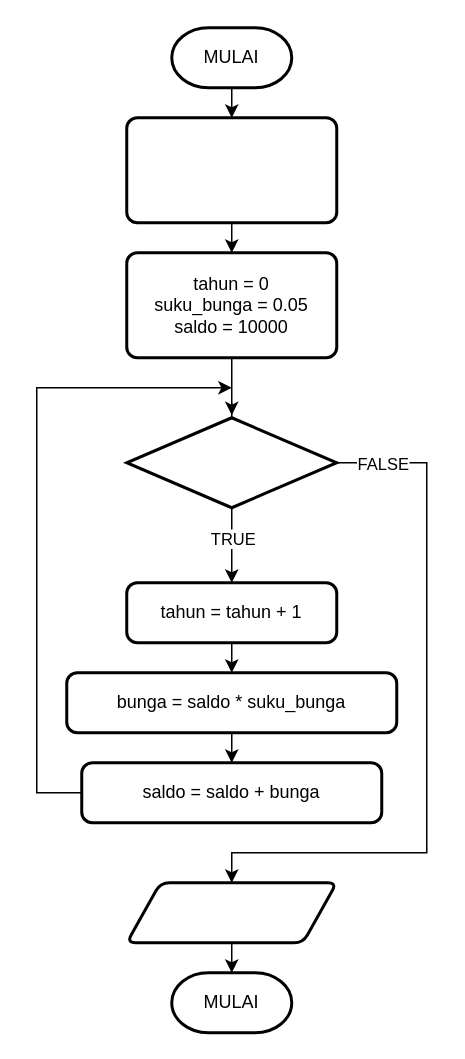
Image size: 465x1059. Some labels were removed from this diagram. Each missing label, with the box of its shape:
saldo < 20000: (124, 416, 338, 508)
tahun: INTEGER saldo: REAL suku_bunga: REAL bunga: REAL: (124, 116, 338, 224)
WRITE tahun: (124, 880, 338, 944)
